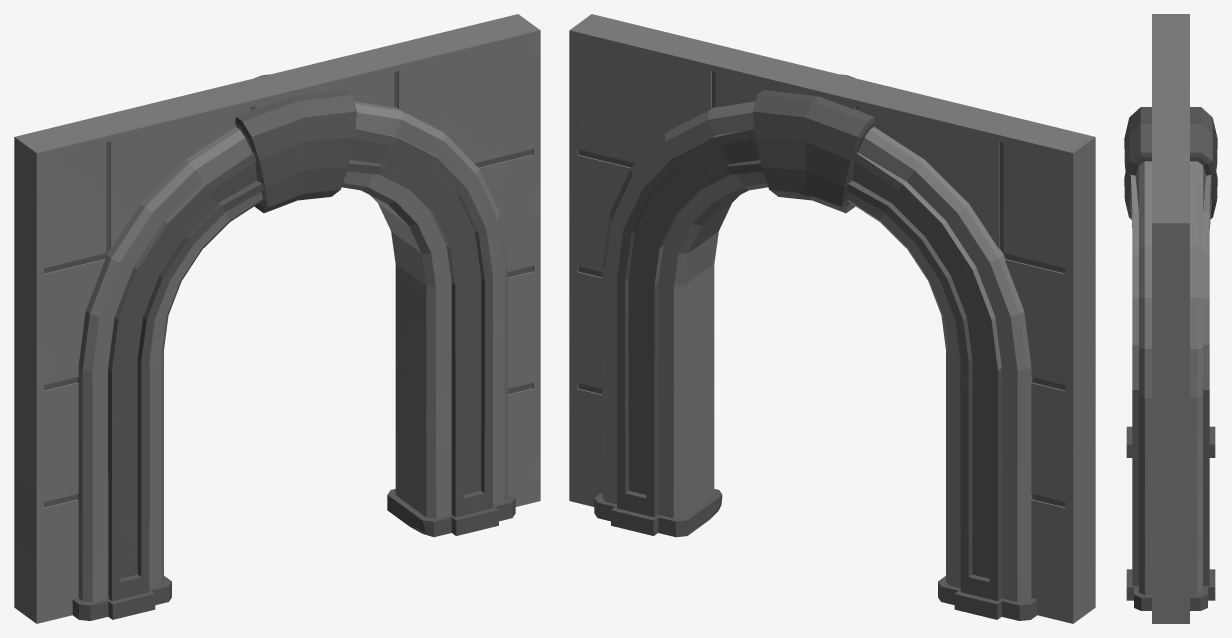
Rendered from Arch_1_Wall.fbx.
3 renders of one model, left to right at view 1: azimuth 30°, elevation 25°; view 2: azimuth 150°, elevation 25°; view 3: azimuth 270°, elevation 25°, orthographic. The views are drawn at different scales.
Parts seen in each view (by area): view 1: Arch 1 Wall; view 2: Arch 1 Wall; view 3: Arch 1 Wall.
Boxes of the visible parts, left/top/right/bottom form: Arch 1 Wall: left=14, top=14, right=540, bottom=623; Arch 1 Wall: left=569, top=14, right=1095, bottom=623; Arch 1 Wall: left=1124, top=14, right=1217, bottom=623.
Size of the model in its own units: 280 by 250 by 52.83.
